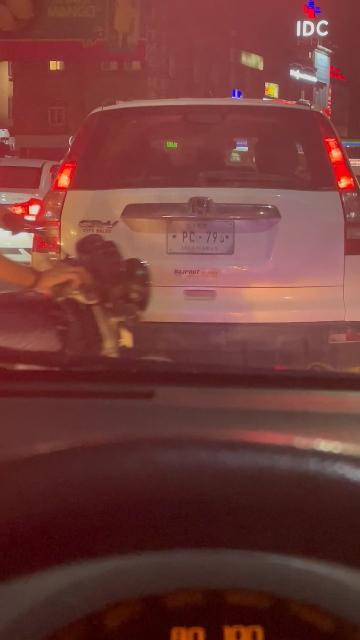plate: (167, 219, 237, 255)
